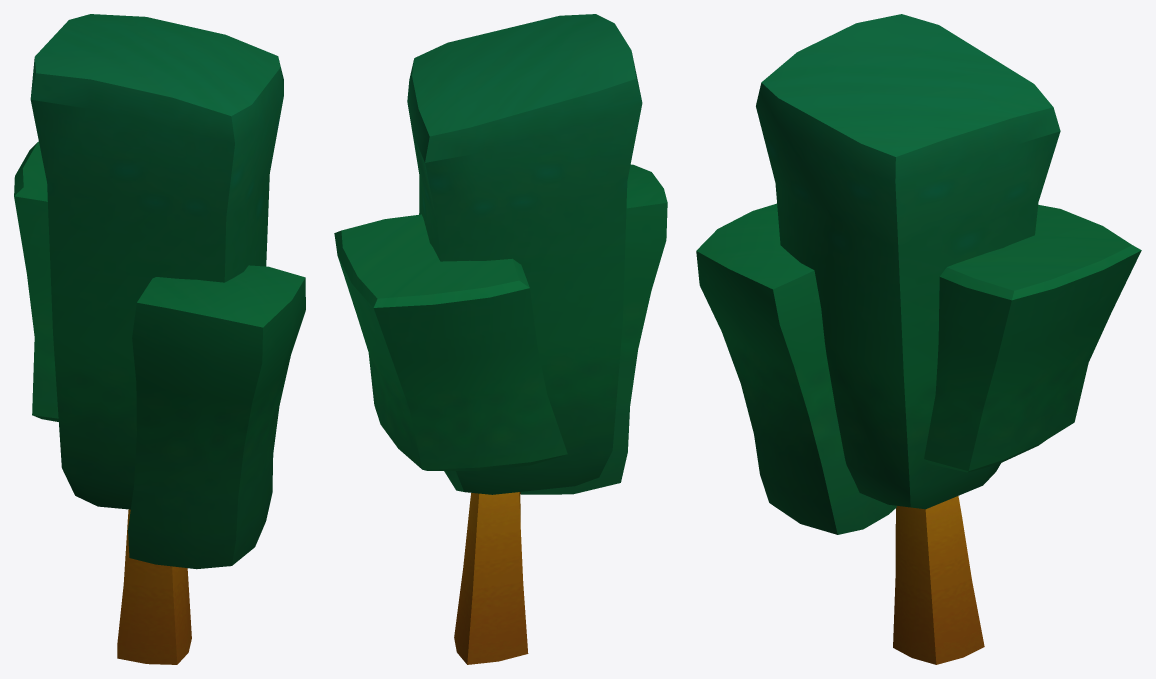
File: Tree01.fbx
3 renders of one model, left to right at view 1: azimuth 30°, elevation 25°; view 2: azimuth 150°, elevation 25°; view 3: azimuth 270°, elevation 25°, orthographic. The views are drawn at different scales.
Visible parts, largest first — view 1: EA04_Trees_Cuboids_01a; view 2: EA04_Trees_Cuboids_01a; view 3: EA04_Trees_Cuboids_01a.
Boxes of the visible parts, box(x1,y1,x2,y2) form: EA04_Trees_Cuboids_01a: box(14, 14, 305, 664); EA04_Trees_Cuboids_01a: box(334, 14, 667, 664); EA04_Trees_Cuboids_01a: box(696, 14, 1141, 664).
Size of the model in its own units: 601 by 1350 by 945.
Materials: 1 (1 with a texture image).
